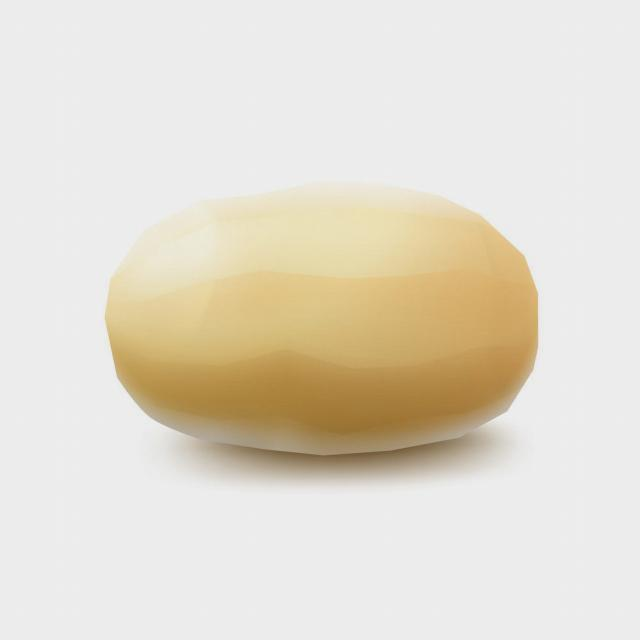potato: (110, 182, 539, 455)
